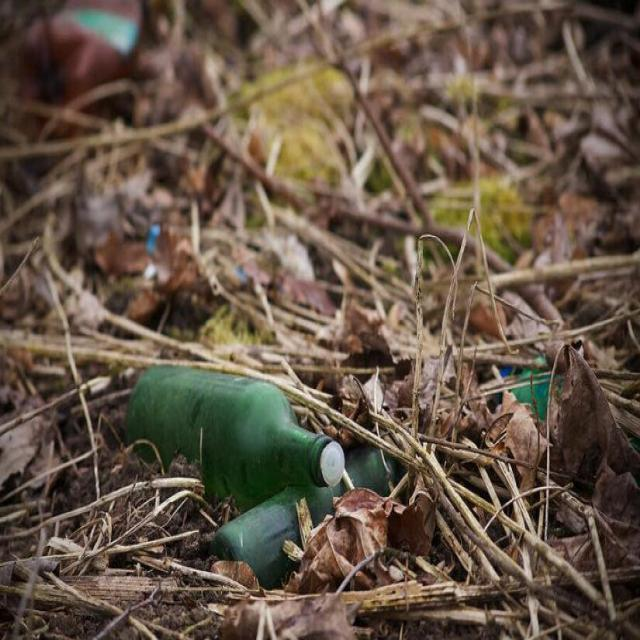glass: (125, 361, 346, 497)
